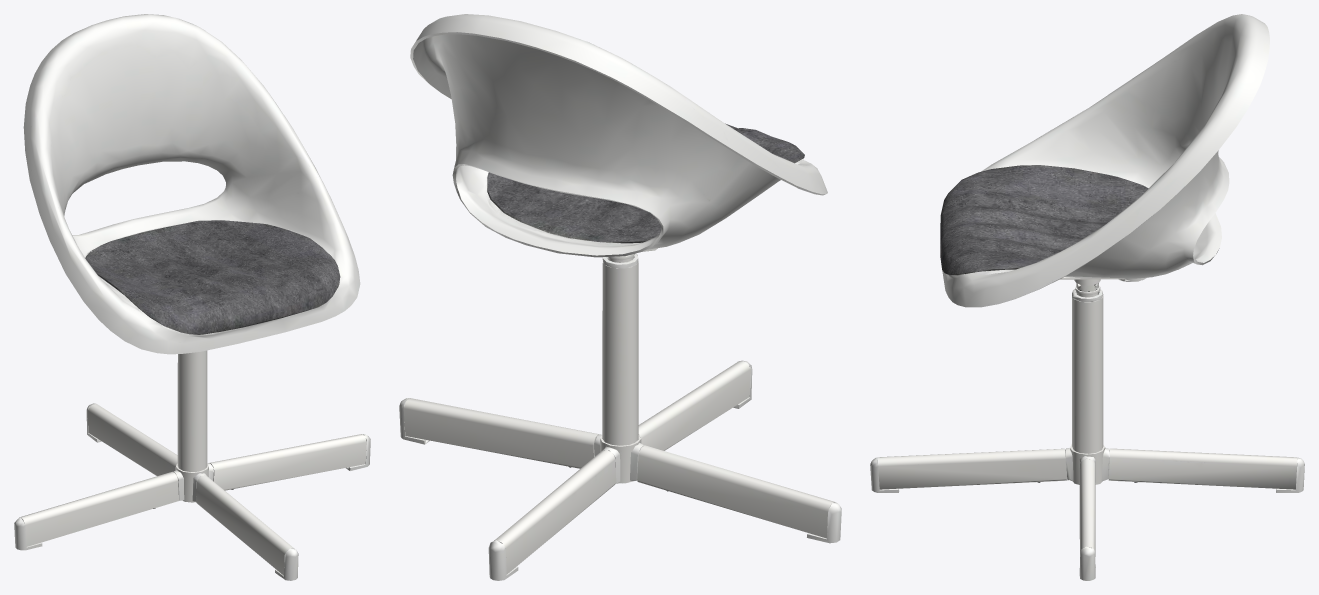
Rendered from 02 - LOBERGETSIBBEN - 附椅墊兒童椅, 白色深灰色 IKEA 線上購物.glb.
The picture shows the model from 3 angles, left to right: view 1: azimuth 30°, elevation 25°; view 2: azimuth 150°, elevation 25°; view 3: azimuth 270°, elevation 25°; orthographic projection. The views are drawn at different scales.
Parts seen in each view (by area): view 1: Mesh_0; view 2: Mesh_0; view 3: Mesh_0.
Part boxes in pixels (left/top/right/bottom): Mesh_0: left=14, top=14, right=370, bottom=580; Mesh_0: left=399, top=14, right=841, bottom=580; Mesh_0: left=870, top=14, right=1304, bottom=580.
Size of the model in its own units: 0.5566 by 0.6448 by 0.5569.
2 materials, 2 textured.
